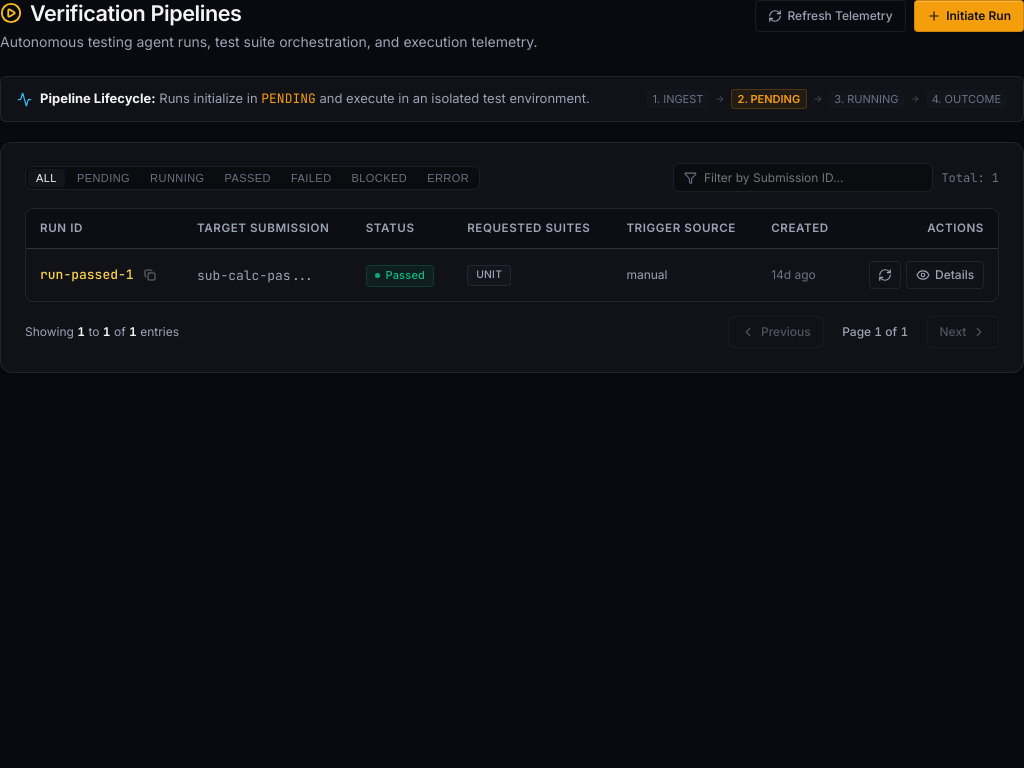
Technical Feedback Preview UI › renders ineligible notice for PASSED verification run
The width and height of the screenshot is (1024, 768).
Click the button "Details".
click(945, 275)  # box [906,261,984,289]
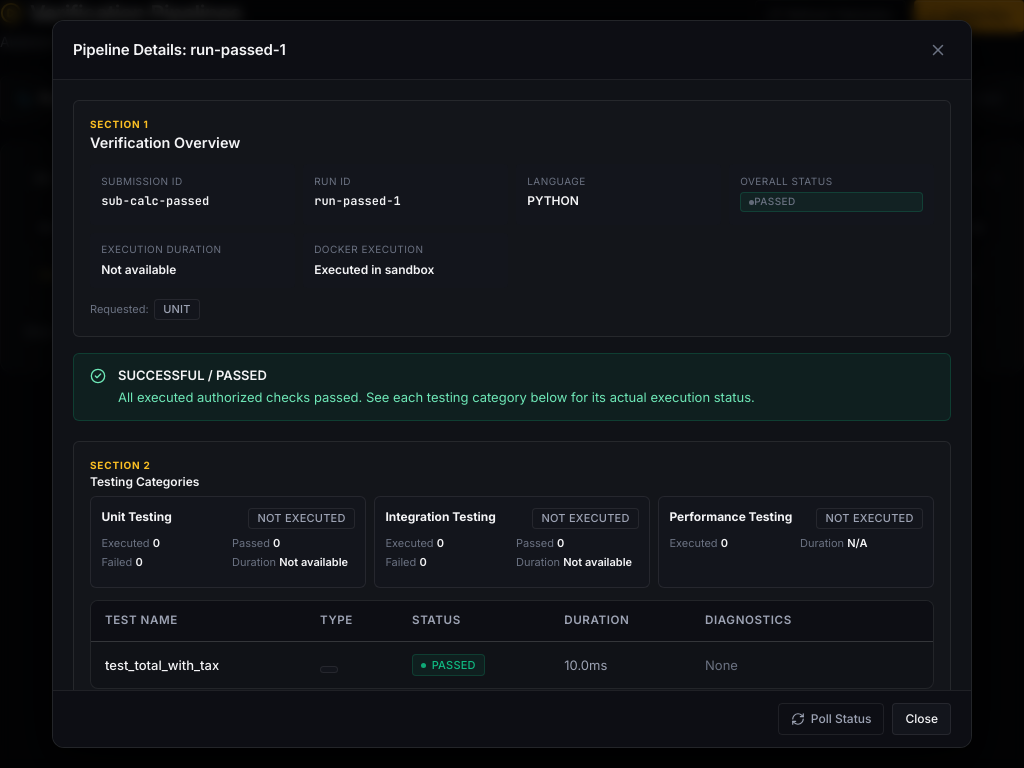
Result: the heading "Pipeline Details: run-passed-1" is shown at [73,41,286,59]
